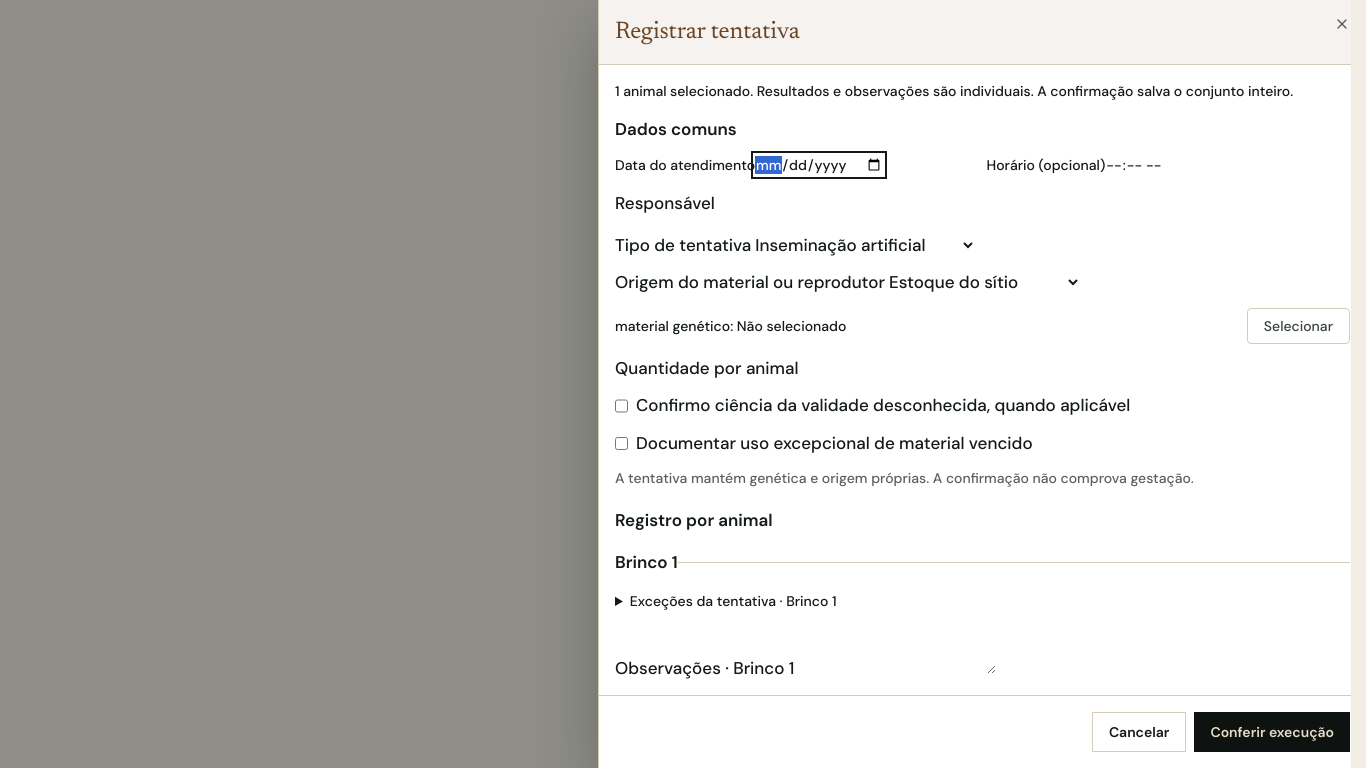
Test case: cobertura documentada usa reprodutor sem forçar material ou baixa de estoque
The image size is (1366, 768).
Type "2026-10-21" into the date field labelled "Data do atendimento".
click(819, 164); type("2026-10-21")  # box [755, 154, 883, 174]
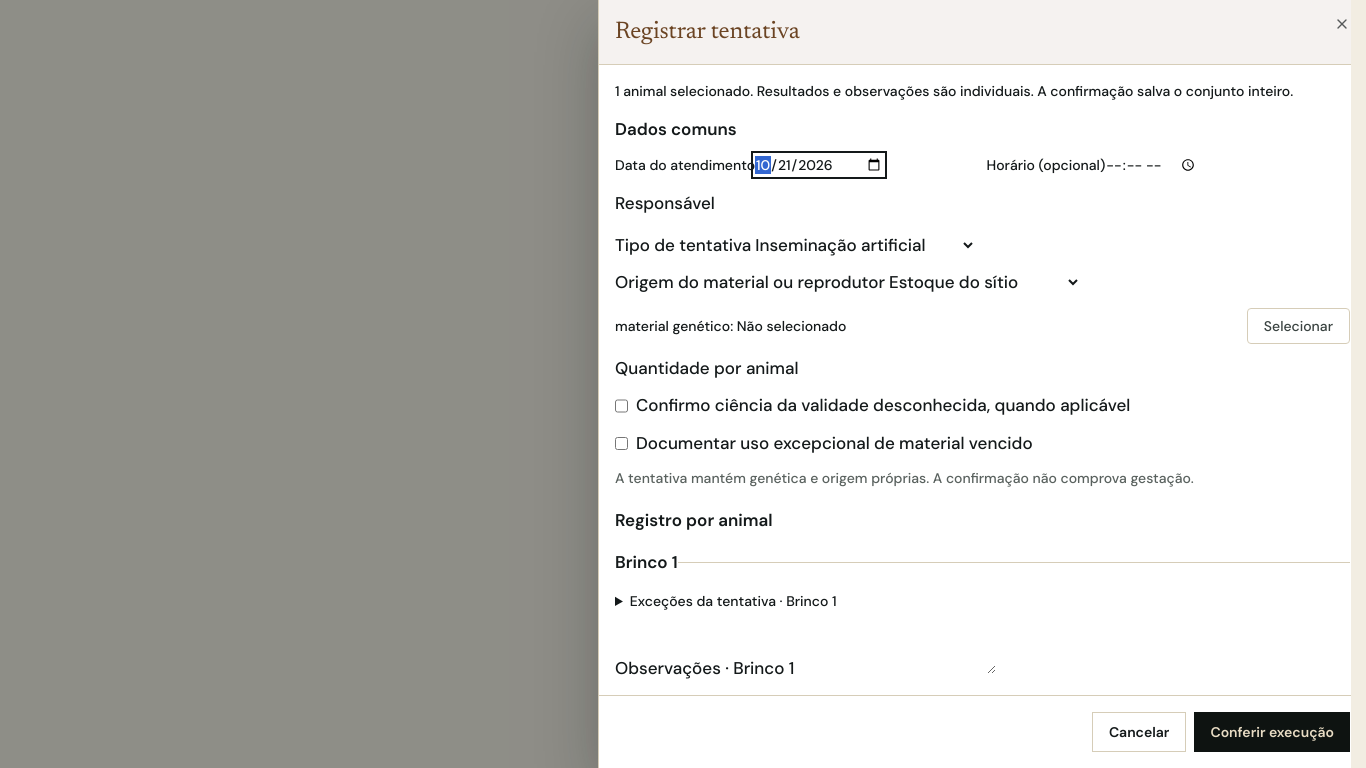
Select "Cobertura" in the dropdown labelled "Tipo de tentativa" at (864, 245), box [751, 233, 976, 257]
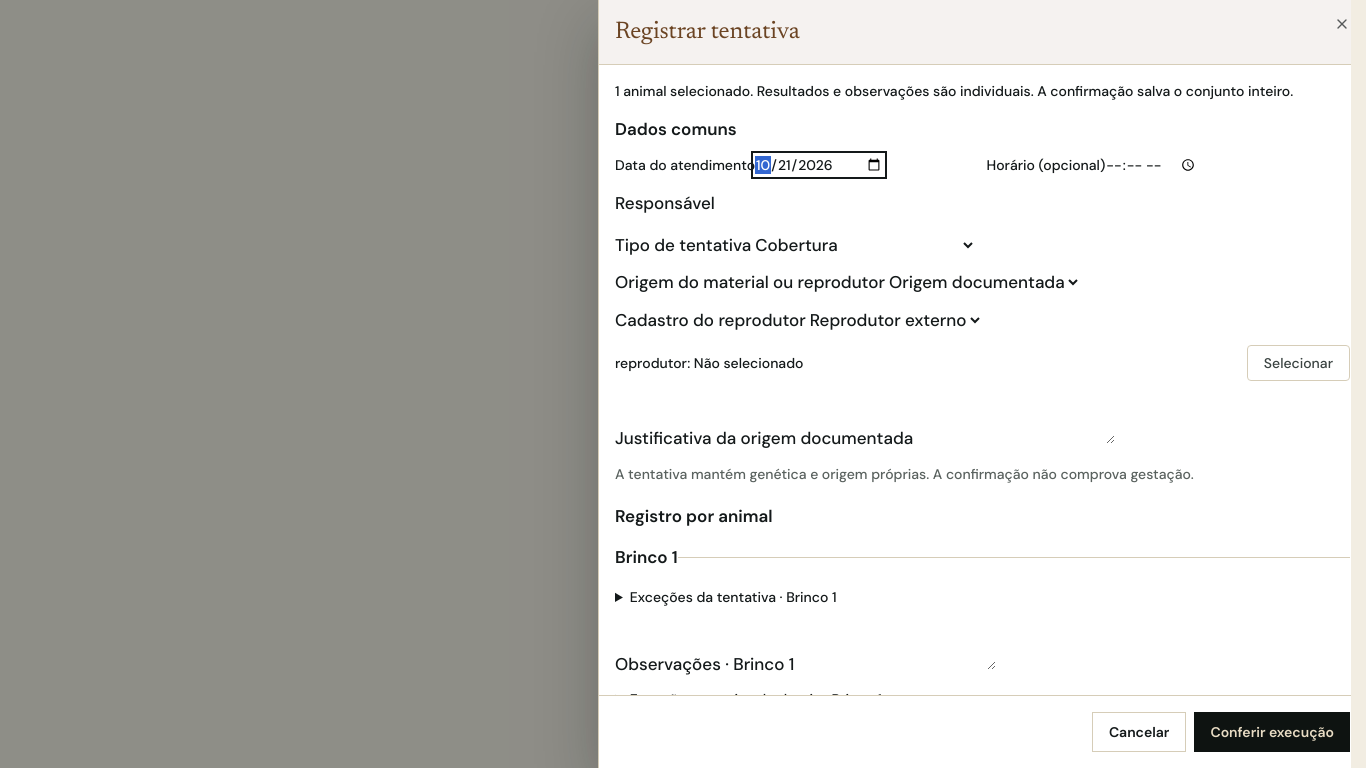
Check: the dropdown labelled "Origem do material ou reprodutor" shows "Origem documentada", box [885, 270, 1081, 294]
Type "Cobertura comprovada no manejo" into the text box labelled "Justificativa da origem documentada".
click(1014, 419); type("Cobertura comprovada no manejo")  # box [913, 393, 1115, 444]
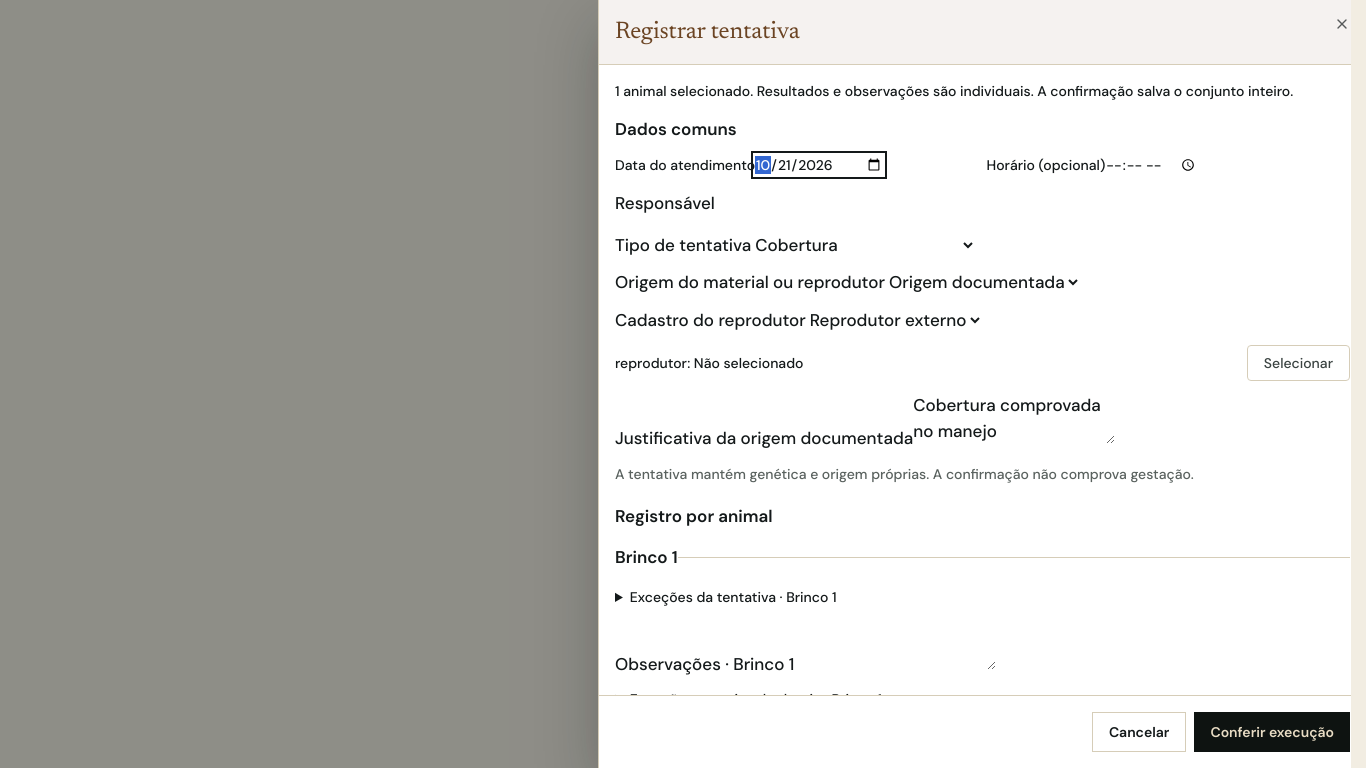
Click the button "Conferir execução".
click(1272, 732)  # box [1194, 712, 1350, 752]
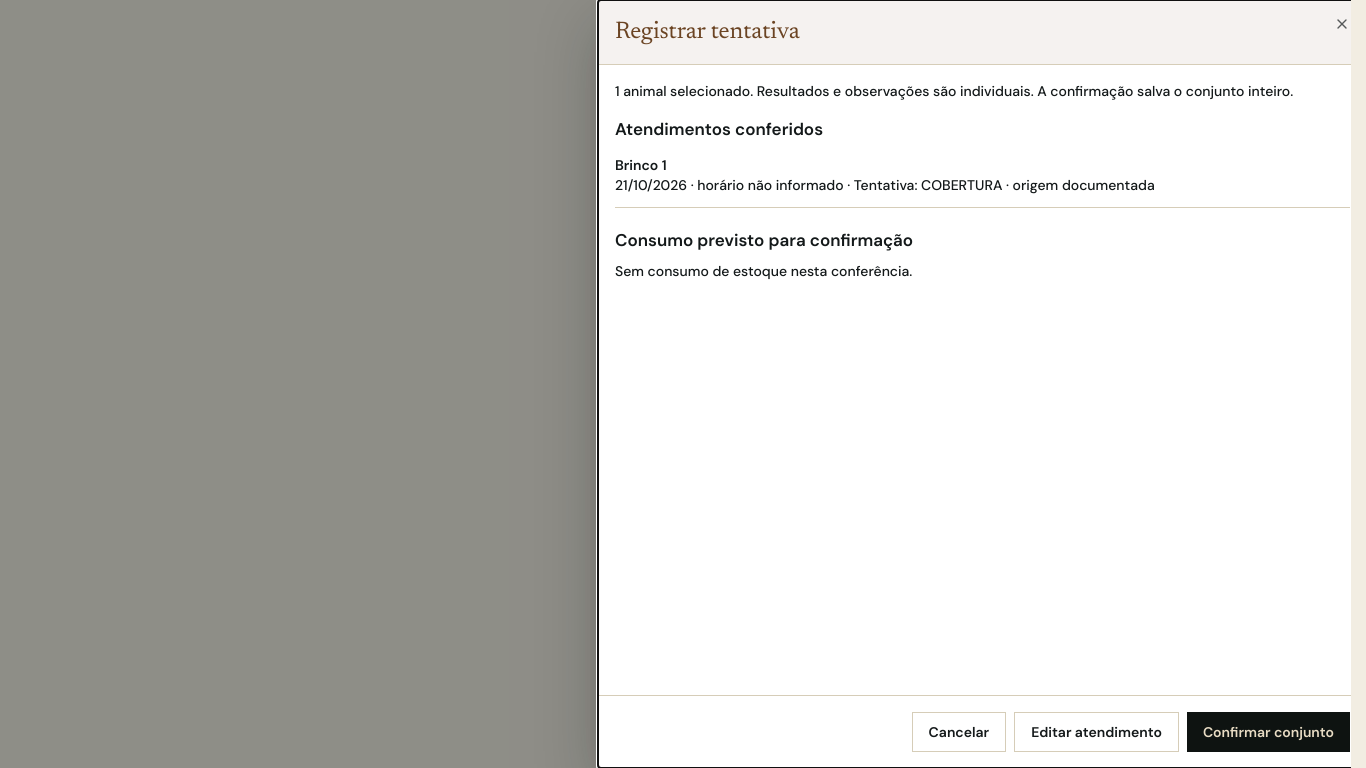
Check: the button "Confirmar conjunto" is shown, box [1187, 712, 1350, 752]
